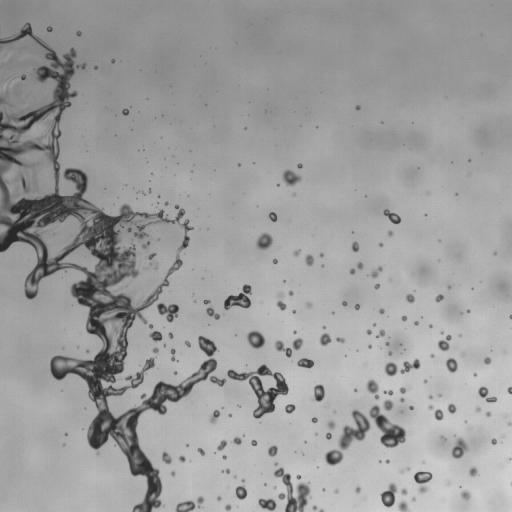droplet: (224, 284, 252, 310), (156, 302, 179, 322), (413, 471, 433, 493), (380, 482, 397, 507), (451, 437, 469, 458), (246, 330, 265, 349), (282, 169, 302, 186), (256, 232, 273, 250), (366, 379, 379, 400), (310, 384, 324, 401), (258, 498, 276, 511), (438, 334, 451, 351), (384, 362, 398, 376), (234, 485, 247, 499), (445, 358, 457, 373), (297, 358, 314, 368), (319, 332, 331, 346), (149, 331, 163, 342), (209, 409, 220, 423), (397, 500, 410, 511), (382, 399, 393, 410), (468, 466, 479, 477), (71, 38, 82, 49), (27, 69, 38, 80), (67, 76, 78, 87), (46, 77, 57, 88), (43, 92, 54, 103), (29, 100, 40, 111), (65, 183, 76, 194), (59, 185, 70, 196), (107, 206, 118, 217), (165, 207, 176, 218), (264, 222, 275, 233), (263, 246, 274, 257), (349, 251, 360, 262), (158, 293, 169, 304), (212, 300, 223, 311), (401, 302, 412, 313), (171, 337, 182, 348), (263, 338, 274, 349), (93, 339, 104, 350), (158, 349, 169, 360), (291, 349, 302, 360), (122, 364, 133, 375), (213, 366, 224, 377), (377, 373, 388, 384), (377, 378, 388, 389), (77, 379, 88, 390), (425, 382, 436, 393), (496, 388, 507, 399), (273, 394, 284, 405), (364, 395, 375, 406), (414, 400, 425, 411), (144, 407, 155, 418), (386, 414, 397, 425), (316, 422, 327, 433), (371, 426, 382, 437), (332, 427, 343, 438), (137, 439, 148, 450), (328, 439, 339, 450), (204, 441, 215, 452), (257, 441, 268, 452), (385, 446, 396, 457), (185, 447, 196, 458), (150, 457, 161, 468), (157, 470, 168, 481), (136, 474, 147, 485), (462, 475, 473, 486), (275, 499, 286, 510), (304, 254, 314, 266), (217, 439, 227, 450), (460, 489, 470, 500), (268, 445, 277, 457), (162, 451, 171, 463), (267, 212, 277, 222), (399, 385, 410, 394), (375, 329, 385, 338), (447, 403, 456, 413), (285, 404, 295, 413), (231, 436, 241, 445), (351, 241, 359, 252), (405, 294, 414, 303), (72, 55, 81, 64), (147, 205, 156, 214), (251, 230, 260, 239), (379, 233, 388, 242), (10, 240, 19, 249), (362, 264, 371, 273), (78, 272, 87, 281), (39, 276, 48, 285), (229, 304, 238, 313), (190, 338, 199, 347), (283, 339, 292, 348), (175, 343, 184, 352), (443, 349, 452, 358), (191, 362, 200, 371), (249, 362, 258, 371), (170, 377, 179, 386), (358, 383, 367, 392), (390, 393, 399, 402), (133, 398, 142, 407), (89, 408, 98, 417), (136, 414, 145, 423), (241, 437, 250, 446), (349, 437, 358, 446), (225, 441, 234, 450), (169, 451, 178, 460), (220, 459, 229, 468), (289, 477, 298, 486), (278, 483, 287, 492), (393, 492, 402, 501), (135, 494, 144, 503), (305, 497, 314, 506), (76, 62, 87, 69), (435, 294, 444, 302), (164, 505, 175, 511), (274, 505, 285, 511), (301, 505, 312, 511), (387, 505, 398, 511), (293, 249, 301, 257), (305, 301, 313, 309), (483, 356, 491, 364), (197, 448, 205, 455), (400, 487, 407, 495), (0, 82, 5, 93), (0, 224, 5, 235), (336, 337, 345, 343), (221, 468, 230, 474), (122, 108, 129, 115), (184, 340, 191, 347), (178, 455, 185, 462), (224, 504, 231, 511), (58, 56, 65, 63), (85, 63, 92, 70), (62, 107, 69, 114), (71, 162, 78, 169), (58, 166, 65, 173), (292, 167, 299, 174), (279, 179, 286, 186), (85, 180, 92, 187), (293, 181, 300, 188), (287, 184, 294, 191), (57, 189, 64, 196), (81, 192, 88, 199), (149, 192, 156, 199), (157, 202, 164, 209), (268, 230, 275, 237), (357, 242, 364, 249), (258, 247, 265, 254), (298, 253, 305, 260), (312, 255, 319, 262), (30, 259, 37, 266), (56, 268, 63, 275), (373, 276, 380, 283), (370, 277, 377, 284), (64, 285, 71, 292), (70, 296, 77, 303), (163, 299, 170, 306), (347, 301, 354, 308), (150, 302, 157, 309), (285, 304, 292, 311), (82, 305, 89, 312), (133, 316, 140, 323), (406, 316, 413, 323), (126, 327, 133, 334), (371, 327, 378, 334), (261, 331, 268, 338), (161, 332, 168, 339), (329, 333, 336, 340), (313, 335, 320, 342), (241, 336, 248, 343), (154, 340, 161, 347), (246, 344, 253, 351), (258, 345, 265, 352), (249, 346, 256, 353), (434, 347, 441, 354), (211, 352, 218, 359), (201, 353, 208, 360), (387, 355, 394, 362), (396, 362, 403, 369), (235, 366, 242, 373), (44, 367, 51, 374), (65, 372, 72, 379), (225, 376, 232, 383), (163, 377, 170, 384), (392, 386, 399, 393), (125, 387, 132, 394), (376, 388, 383, 395), (145, 390, 152, 397), (178, 396, 185, 403), (370, 398, 377, 405), (163, 399, 170, 406), (376, 399, 383, 406), (402, 400, 409, 407), (378, 407, 385, 414), (441, 407, 448, 414), (362, 409, 369, 416), (112, 411, 119, 418), (263, 411, 270, 418), (328, 413, 335, 420), (368, 417, 375, 424), (350, 422, 357, 429), (134, 425, 141, 432), (376, 429, 383, 436), (364, 430, 371, 437), (403, 432, 410, 439), (106, 435, 113, 442), (225, 436, 232, 443), (463, 437, 470, 444), (82, 440, 89, 447), (449, 440, 456, 447), (99, 443, 106, 450), (87, 446, 94, 453), (221, 447, 228, 454), (340, 448, 347, 455), (462, 450, 469, 457), (120, 454, 127, 461), (271, 454, 278, 461), (319, 456, 326, 463), (122, 460, 129, 467), (469, 460, 476, 467), (333, 462, 340, 469), (275, 475, 282, 482), (299, 476, 306, 483), (325, 486, 332, 493), (414, 491, 421, 498), (157, 493, 164, 500), (271, 494, 278, 501), (402, 494, 409, 501), (281, 497, 288, 504), (219, 499, 226, 506), (406, 501, 413, 508), (66, 232, 72, 240), (357, 262, 363, 269), (152, 347, 158, 354), (474, 406, 481, 412), (491, 438, 497, 445), (251, 440, 257, 447), (355, 486, 361, 493), (349, 268, 355, 274), (374, 283, 380, 289), (379, 308, 385, 314), (401, 315, 407, 321), (366, 329, 372, 335), (485, 411, 491, 417), (311, 417, 317, 423), (168, 332, 173, 339), (0, 32, 5, 39), (507, 386, 511, 394), (46, 26, 52, 31), (76, 30, 81, 36), (388, 230, 393, 236), (272, 258, 277, 264), (288, 290, 293, 296), (342, 300, 347, 306), (354, 304, 359, 310), (460, 351, 465, 357), (399, 397, 405, 402), (408, 405, 414, 410), (170, 470, 175, 476), (445, 479, 450, 485), (150, 507, 157, 511), (191, 507, 198, 511), (261, 507, 268, 511), (355, 105, 360, 110), (297, 163, 302, 168), (164, 201, 169, 206), (378, 242, 383, 247), (319, 252, 324, 257), (148, 324, 153, 329), (428, 394, 433, 399), (296, 474, 301, 479), (15, 29, 20, 34), (31, 29, 36, 34), (24, 33, 29, 38), (18, 37, 23, 42), (11, 40, 16, 45), (34, 42, 39, 47), (65, 48, 70, 53), (74, 48, 79, 53), (71, 63, 76, 68), (7, 87, 12, 92), (67, 88, 72, 93), (67, 96, 72, 101), (354, 100, 359, 105), (350, 105, 355, 110), (59, 114, 64, 119), (57, 136, 62, 141), (56, 157, 61, 162), (80, 167, 85, 172), (143, 187, 148, 192), (137, 192, 142, 197), (131, 207, 136, 212), (138, 207, 143, 212), (154, 208, 159, 213), (173, 208, 178, 213), (388, 208, 393, 213), (179, 217, 184, 222), (390, 222, 395, 227), (396, 222, 401, 227), (186, 230, 191, 235), (388, 235, 393, 240), (187, 239, 192, 244), (347, 242, 352, 247), (292, 245, 297, 250), (183, 246, 188, 251), (347, 246, 352, 251), (357, 247, 362, 252), (179, 255, 184, 260), (352, 264, 357, 269), (372, 264, 377, 269), (178, 265, 183, 270), (307, 265, 312, 270), (345, 266, 350, 271), (381, 266, 386, 271), (354, 267, 359, 272), (172, 269, 177, 274), (377, 271, 382, 276), (348, 273, 353, 278), (166, 275, 171, 280), (245, 280, 250, 285), (161, 285, 166, 290), (249, 287, 254, 292), (238, 288, 243, 293), (408, 289, 413, 294), (283, 290, 288, 295), (20, 291, 25, 296), (233, 291, 238, 296), (411, 291, 416, 296), (433, 291, 438, 296), (222, 294, 227, 299), (22, 295, 27, 300), (31, 296, 36, 301), (272, 298, 277, 303), (281, 298, 286, 303), (171, 299, 176, 304), (403, 299, 408, 304), (439, 299, 444, 304), (174, 300, 179, 305), (219, 300, 224, 305), (409, 301, 414, 306), (204, 303, 209, 308), (248, 304, 253, 309), (274, 305, 279, 310), (374, 306, 379, 311), (139, 309, 144, 314), (176, 309, 181, 314), (383, 310, 388, 315), (162, 312, 167, 317), (203, 312, 208, 317), (379, 313, 384, 318), (209, 315, 214, 320), (218, 316, 223, 321), (415, 316, 420, 321), (146, 319, 151, 324), (368, 325, 373, 330), (151, 326, 156, 331), (250, 326, 255, 331), (320, 328, 325, 333), (384, 330, 389, 335), (338, 333, 343, 338), (292, 334, 297, 339), (207, 335, 212, 340), (378, 335, 383, 340), (440, 335, 445, 340), (147, 336, 152, 341), (447, 339, 452, 344), (343, 340, 348, 345), (213, 341, 218, 346), (336, 341, 341, 346), (326, 342, 331, 347), (433, 342, 438, 347), (385, 345, 390, 350), (398, 345, 403, 350), (125, 346, 130, 351), (280, 350, 285, 355), (60, 351, 65, 356), (173, 352, 178, 357), (486, 352, 491, 357), (306, 354, 311, 359), (480, 354, 485, 359), (89, 355, 94, 360), (453, 355, 458, 360), (122, 357, 127, 362), (455, 358, 460, 363), (153, 359, 158, 364), (408, 359, 413, 364), (479, 359, 484, 364), (140, 360, 145, 365), (418, 360, 423, 365), (489, 360, 494, 365), (456, 362, 461, 367), (483, 363, 488, 368), (45, 364, 50, 369), (225, 365, 230, 370), (310, 365, 315, 370), (442, 365, 447, 370), (302, 366, 307, 371), (136, 367, 141, 372), (147, 367, 152, 372), (244, 368, 249, 373), (270, 368, 275, 373), (395, 369, 400, 374), (454, 369, 459, 374), (187, 370, 192, 375), (382, 371, 387, 376), (48, 373, 53, 378), (113, 373, 118, 378), (386, 374, 391, 379), (390, 374, 395, 379), (232, 378, 237, 383), (243, 378, 248, 383), (199, 379, 204, 384), (284, 379, 289, 384), (314, 380, 319, 385), (212, 382, 217, 387), (222, 382, 227, 387), (400, 382, 405, 387), (482, 382, 487, 387), (506, 382, 511, 387), (192, 383, 197, 388), (246, 384, 251, 389), (322, 385, 327, 390), (474, 385, 479, 390), (309, 391, 314, 396), (369, 392, 374, 397), (400, 392, 405, 397), (486, 392, 491, 397), (384, 393, 389, 398), (432, 393, 437, 398), (475, 393, 480, 398), (252, 394, 257, 399), (105, 395, 110, 400), (321, 396, 326, 401), (480, 396, 485, 401), (427, 399, 432, 404), (315, 400, 320, 405), (90, 401, 95, 406), (488, 401, 493, 406), (253, 402, 258, 407), (454, 403, 459, 408), (215, 405, 220, 410), (432, 405, 437, 410), (470, 405, 475, 410), (454, 408, 459, 413), (208, 409, 213, 414), (429, 409, 434, 414), (480, 409, 485, 414), (490, 411, 495, 416), (216, 415, 221, 420), (487, 415, 492, 420), (439, 418, 444, 423), (209, 422, 214, 427), (325, 427, 330, 432), (321, 431, 326, 436), (237, 433, 242, 438), (215, 440, 220, 445), (495, 441, 500, 446), (232, 442, 237, 447), (265, 443, 270, 448), (379, 443, 384, 448), (201, 445, 206, 450), (212, 445, 217, 450), (387, 446, 392, 451), (325, 447, 330, 452), (263, 448, 268, 453), (276, 448, 281, 453), (447, 448, 452, 453), (195, 451, 200, 456), (184, 455, 189, 460), (455, 457, 460, 462), (401, 463, 406, 468), (273, 465, 278, 470), (475, 465, 480, 470), (419, 466, 424, 471), (465, 466, 470, 471), (476, 468, 481, 473), (229, 470, 234, 475), (410, 470, 415, 475), (157, 472, 162, 477), (473, 474, 478, 479), (410, 478, 415, 483), (237, 481, 242, 486), (422, 481, 427, 486), (358, 482, 363, 487), (415, 482, 420, 487), (461, 485, 466, 490), (350, 486, 355, 491), (383, 486, 388, 491), (245, 488, 250, 493), (359, 488, 364, 493), (456, 488, 461, 493), (197, 491, 202, 496), (422, 491, 427, 496), (245, 492, 250, 497), (263, 495, 268, 500), (376, 495, 381, 500), (184, 496, 189, 501), (468, 496, 473, 501), (179, 497, 184, 502), (235, 497, 240, 502), (461, 498, 466, 503), (193, 500, 198, 505), (200, 501, 205, 506), (378, 501, 383, 506), (128, 504, 133, 509), (171, 504, 176, 509), (316, 504, 321, 509), (0, 67, 3, 74), (0, 190, 3, 197), (0, 198, 3, 205), (111, 58, 115, 63), (414, 321, 419, 325), (368, 344, 372, 349), (430, 353, 434, 358), (173, 370, 177, 375), (473, 372, 477, 377), (353, 388, 358, 392), (384, 459, 389, 463), (334, 488, 338, 493), (217, 496, 221, 501), (411, 496, 415, 501), (94, 65, 98, 69), (493, 251, 497, 255), (447, 285, 451, 289), (466, 309, 470, 313), (372, 323, 376, 327), (322, 325, 326, 329), (428, 324, 432, 328), (293, 330, 297, 334), (440, 330, 444, 334), (458, 333, 462, 337), (85, 349, 89, 353), (388, 351, 392, 355), (423, 379, 427, 383), (332, 409, 336, 413), (228, 413, 232, 417), (507, 422, 511, 426), (64, 432, 68, 436), (222, 455, 226, 459), (507, 458, 511, 462), (274, 462, 278, 466), (241, 478, 245, 482), (236, 404, 241, 407), (508, 393, 511, 398), (508, 425, 511, 430), (221, 508, 226, 511), (228, 508, 233, 511), (314, 508, 319, 511), (237, 163, 241, 166), (292, 192, 295, 196), (157, 194, 160, 198), (321, 264, 324, 268), (193, 299, 196, 303), (259, 301, 263, 304), (292, 309, 295, 313), (459, 312, 463, 315), (234, 333, 237, 337), (385, 342, 389, 345), (438, 393, 441, 397), (399, 410, 403, 413), (315, 432, 318, 436), (502, 434, 505, 438), (272, 486, 276, 489), (380, 121, 383, 124), (244, 126, 247, 129), (150, 172, 153, 175), (276, 183, 279, 186), (424, 213, 427, 216), (438, 239, 441, 242), (331, 311, 334, 314), (76, 345, 79, 348), (163, 344, 166, 347), (464, 420, 467, 423), (242, 434, 245, 437), (62, 443, 65, 446), (186, 444, 189, 447), (378, 460, 381, 463), (422, 460, 425, 463), (233, 475, 236, 478), (322, 488, 325, 491), (49, 23, 52, 26), (44, 24, 47, 27), (51, 28, 54, 31), (44, 29, 47, 32), (47, 31, 50, 34), (80, 32, 83, 35), (76, 35, 79, 38), (113, 56, 116, 59), (108, 57, 111, 60), (114, 60, 117, 63), (94, 62, 97, 65), (84, 65, 87, 68), (95, 68, 98, 71), (23, 71, 26, 74), (19, 72, 22, 75), (3, 75, 6, 78), (18, 77, 21, 80), (21, 79, 24, 82), (127, 107, 130, 110), (119, 108, 122, 111), (356, 109, 359, 112), (127, 112, 130, 115), (123, 114, 126, 117), (383, 120, 386, 123), (314, 122, 317, 125), (379, 123, 382, 126), (241, 124, 244, 127), (246, 127, 249, 130), (59, 128, 62, 131), (139, 148, 142, 151), (465, 156, 468, 159), (251, 158, 254, 161), (470, 159, 473, 162), (239, 160, 242, 163), (296, 160, 299, 163), (234, 163, 237, 166), (301, 163, 304, 166), (239, 165, 242, 168), (148, 169, 151, 172), (152, 170, 155, 173), (148, 174, 151, 177), (273, 183, 276, 186), (276, 186, 279, 189), (150, 187, 153, 190), (134, 188, 137, 191), (455, 189, 458, 192), (134, 193, 137, 196), (159, 193, 162, 196), (361, 193, 364, 196), (143, 195, 146, 198), (455, 195, 458, 198), (156, 197, 159, 200), (175, 201, 178, 204), (178, 205, 181, 208), (383, 206, 386, 209), (267, 210, 270, 213), (274, 211, 277, 214), (380, 211, 383, 214), (421, 212, 424, 215), (426, 212, 429, 215), (398, 214, 401, 217), (276, 215, 279, 218), (385, 215, 388, 218), (424, 215, 427, 218), (267, 217, 270, 220), (352, 228, 355, 231), (348, 229, 351, 232), (378, 239, 381, 242), (382, 243, 385, 246), (376, 244, 379, 247), (296, 246, 299, 249), (322, 251, 325, 254), (496, 252, 499, 255), (322, 255, 325, 258), (493, 255, 496, 258), (275, 256, 278, 259), (269, 258, 272, 261), (359, 259, 362, 262), (273, 263, 276, 266), (323, 264, 326, 267), (65, 267, 68, 270), (320, 267, 323, 270), (368, 275, 371, 278), (282, 276, 285, 279), (285, 279, 288, 282), (280, 281, 283, 284), (379, 284, 382, 287), (450, 284, 453, 287), (469, 284, 472, 287), (371, 286, 374, 289), (473, 286, 476, 289), (289, 287, 292, 290), (377, 287, 380, 290), (468, 288, 471, 291), (292, 290, 295, 293), (441, 292, 444, 295), (192, 296, 195, 299), (203, 296, 206, 299), (344, 298, 347, 301), (339, 299, 342, 302), (355, 300, 358, 303), (192, 302, 195, 305), (352, 302, 355, 305), (340, 304, 343, 307), (359, 304, 362, 307), (380, 305, 383, 308), (467, 306, 470, 309), (358, 307, 361, 310), (281, 309, 284, 312), (295, 309, 298, 312), (328, 309, 331, 312), (354, 309, 357, 312), (469, 309, 472, 312), (463, 310, 466, 313), (334, 311, 337, 314), (402, 312, 405, 315), (467, 312, 470, 315), (329, 313, 332, 316), (506, 313, 509, 316), (422, 314, 425, 317), (506, 316, 509, 319), (216, 318, 219, 321), (371, 320, 374, 323), (401, 320, 404, 323), (428, 321, 431, 324), (431, 322, 434, 325), (145, 323, 148, 326), (324, 323, 327, 326), (319, 324, 322, 327), (413, 324, 416, 327), (425, 324, 428, 327), (428, 327, 431, 330), (290, 328, 293, 331), (295, 328, 298, 331), (440, 328, 443, 331), (234, 330, 237, 333), (171, 331, 174, 334), (231, 332, 234, 335), (364, 332, 367, 335), (450, 335, 453, 338), (374, 337, 377, 340), (181, 340, 184, 343), (400, 340, 403, 343), (396, 341, 399, 344), (388, 342, 391, 345), (184, 344, 187, 347), (371, 344, 374, 347), (171, 345, 174, 348), (364, 345, 367, 348), (167, 348, 170, 351), (355, 351, 358, 354), (385, 351, 388, 354), (341, 353, 344, 356), (346, 353, 349, 356), (427, 353, 430, 356), (431, 357, 434, 360), (172, 368, 175, 371), (176, 370, 179, 373), (280, 371, 283, 374), (476, 372, 479, 375), (470, 374, 473, 377), (426, 377, 429, 380), (420, 379, 423, 382), (426, 380, 429, 383), (138, 383, 141, 386), (350, 388, 353, 391), (438, 390, 441, 393), (505, 390, 508, 393), (354, 391, 357, 394), (425, 393, 428, 396), (496, 398, 499, 401), (237, 401, 240, 404), (233, 402, 236, 405), (409, 402, 412, 405), (235, 406, 238, 409), (282, 408, 285, 411), (409, 409, 412, 412), (228, 410, 231, 413), (291, 410, 294, 413), (288, 412, 291, 415), (231, 413, 234, 416), (314, 414, 317, 417), (309, 415, 312, 418), (228, 416, 231, 419), (466, 420, 469, 423), (310, 421, 313, 424), (313, 422, 316, 425), (462, 422, 465, 425), (67, 432, 70, 435), (311, 432, 314, 435), (443, 434, 446, 437), (64, 435, 67, 438), (323, 436, 326, 439), (255, 438, 258, 441), (440, 438, 443, 441), (488, 439, 491, 442), (496, 439, 499, 442), (185, 440, 188, 443), (306, 440, 309, 443), (301, 441, 304, 444), (248, 442, 251, 445), (256, 442, 259, 445), (182, 443, 185, 446), (188, 443, 191, 446), (115, 444, 118, 447), (251, 445, 254, 448), (185, 446, 188, 449), (303, 451, 306, 454), (298, 452, 301, 455), (226, 455, 229, 458), (301, 455, 304, 458), (219, 456, 222, 459), (385, 456, 388, 459), (375, 459, 378, 462), (381, 459, 384, 462), (388, 461, 391, 464), (377, 462, 380, 465), (313, 466, 316, 469), (218, 468, 221, 471), (428, 469, 431, 472), (174, 471, 177, 474), (223, 471, 226, 474), (431, 473, 434, 476), (300, 474, 303, 477), (243, 476, 246, 479), (260, 482, 263, 485), (266, 482, 269, 485), (457, 482, 460, 485), (321, 484, 324, 487), (319, 487, 322, 490), (324, 487, 327, 490), (232, 489, 235, 492), (334, 493, 337, 496), (214, 494, 217, 497), (214, 498, 217, 501), (255, 499, 258, 502), (322, 507, 325, 510), (468, 158, 470, 162), (454, 193, 458, 195), (264, 482, 266, 486), (252, 162, 255, 164), (190, 170, 193, 172), (283, 280, 286, 282), (471, 287, 473, 290), (192, 293, 194, 296), (399, 343, 402, 345), (344, 354, 346, 357), (325, 405, 328, 407), (221, 406, 223, 409), (304, 440, 306, 443), (213, 451, 215, 454), (294, 450, 296, 453), (509, 318, 511, 321), (509, 419, 511, 422), (509, 454, 511, 457), (316, 126, 318, 128), (160, 136, 162, 138), (417, 167, 419, 169), (187, 194, 189, 196), (157, 202, 159, 204), (256, 205, 258, 207), (207, 228, 209, 230), (201, 277, 203, 279), (356, 349, 358, 351), (400, 352, 402, 354), (245, 364, 247, 366), (84, 407, 86, 409), (259, 421, 261, 423), (453, 434, 455, 436), (316, 466, 318, 468), (459, 485, 461, 487), (162, 114, 163, 116), (138, 149, 139, 151), (146, 161, 148, 162), (451, 161, 452, 163), (365, 195, 366, 197), (352, 231, 353, 233), (414, 289, 415, 291), (421, 316, 422, 318), (404, 348, 405, 350), (490, 350, 492, 351), (205, 104, 206, 105), (143, 149, 144, 150), (136, 197, 137, 198), (163, 326, 164, 327)
ligament: (324, 404, 410, 464), (175, 496, 204, 511), (203, 299, 220, 319), (399, 358, 420, 374), (478, 386, 497, 403), (383, 209, 401, 224), (427, 404, 443, 420), (325, 419, 336, 439), (275, 291, 286, 310), (366, 266, 382, 278), (170, 348, 178, 362), (398, 467, 410, 473), (312, 505, 324, 511), (382, 389, 393, 395), (137, 190, 146, 195), (440, 435, 446, 440), (148, 187, 151, 193), (509, 313, 511, 319), (301, 452, 304, 455), (124, 184, 127, 186), (510, 481, 511, 486), (155, 206, 157, 208)
